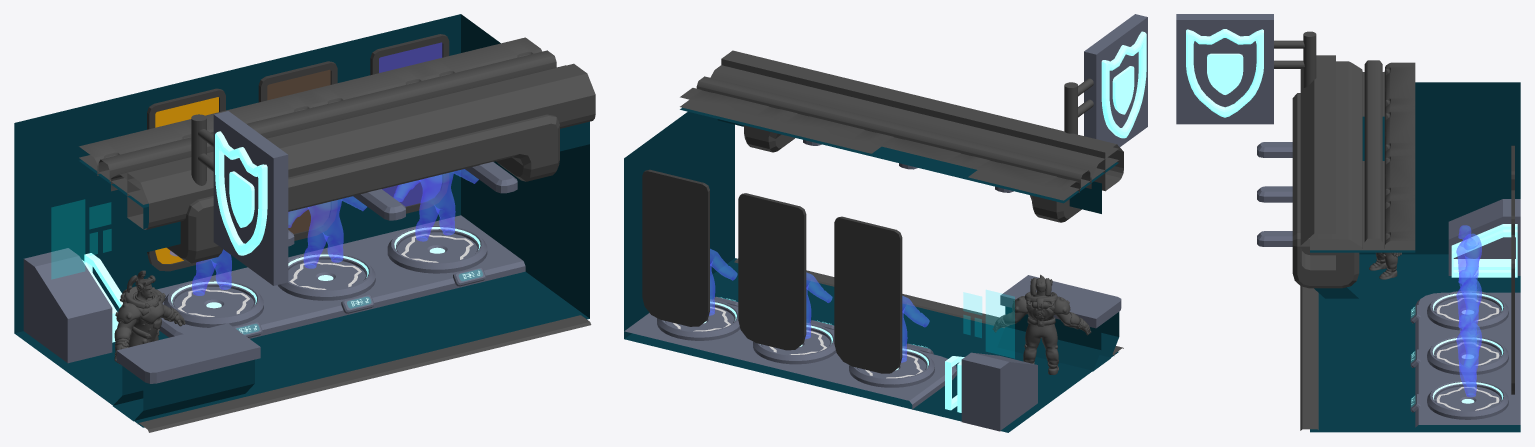
Rendered from MB_Shop_Armorer.fbx.
The picture shows the model from 3 angles, left to right: view 1: azimuth 30°, elevation 25°; view 2: azimuth 150°, elevation 25°; view 3: azimuth 270°, elevation 25°; orthographic projection. The views are drawn at different scales.
Parts seen in each view (by area): view 1: Cube.6560, Cube.6561, Cylinder.015, Pirate_BodySuit.005; view 2: Cube.6560, Cube.6561, Cylinder.015, Pirate_BodySuit.005; view 3: Cube.6560, Cube.6561, Cylinder.015, Pirate_BodySuit.005.
Part boxes in pixels (<box>): Cube.6560: <box>14,14,595,432</box>; Cube.6561: <box>191,111,288,285</box>; Cylinder.015: <box>164,224,487,327</box>; Pirate_BodySuit.005: <box>170,169,478,295</box>; Cube.6560: <box>624,50,1123,432</box>; Cube.6561: <box>1064,14,1147,146</box>; Cylinder.015: <box>657,299,934,387</box>; Pirate_BodySuit.005: <box>709,249,929,362</box>; Cube.6560: <box>1257,55,1520,432</box>; Cube.6561: <box>1176,14,1316,124</box>; Cylinder.015: <box>1427,291,1508,419</box>; Pirate_BodySuit.005: <box>1456,225,1481,397</box>.
Bounding box in the file's own units: 8 × 5.47 × 6.54.
